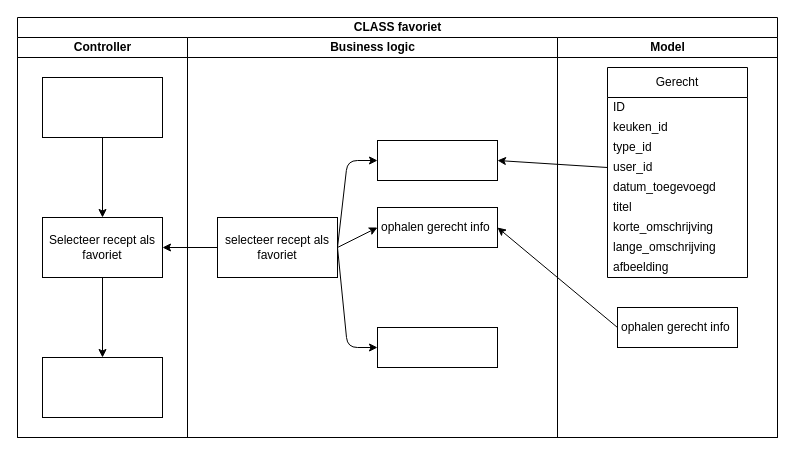
The diagram is 795 pixels wide and 455 high, and some of its shapes have lost their labels. Each missing label, with the centre of its shape:
"Initialisatie" belongs at (102,107).
"Kleur hart emoticon rood" belongs at (102,387).
"ophalen gerecht" belongs at (437,160).
"set gerecht als favoriet" belongs at (437,347).
